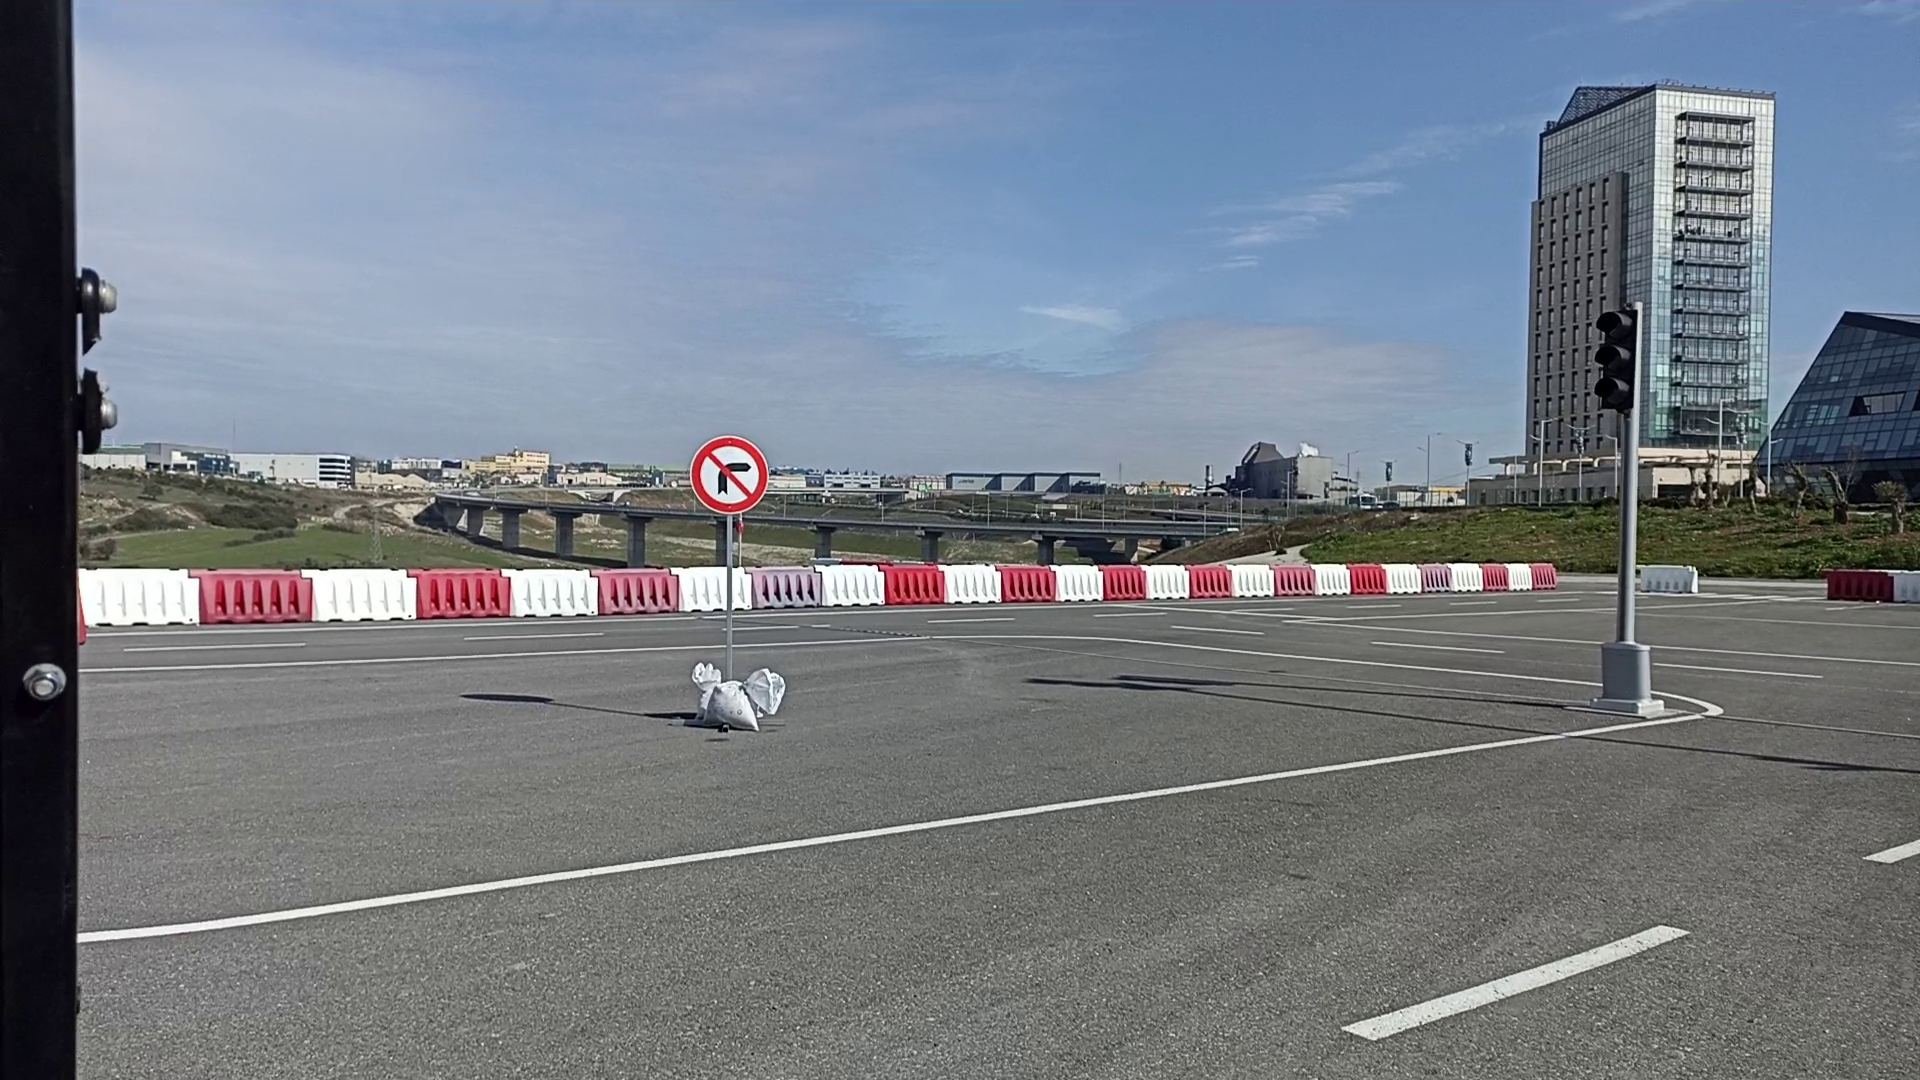noleftturn: (688, 434, 770, 517)
trafficlight: (1592, 301, 1644, 414)
